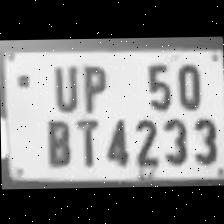0: (170, 58, 203, 108)
2: (128, 110, 160, 168)
3: (187, 110, 220, 167), (158, 110, 190, 166)
4: (100, 112, 130, 166)
5: (139, 57, 172, 109)
B: (40, 110, 72, 168)
P: (76, 58, 109, 110)
T: (70, 112, 100, 166)
U: (46, 58, 79, 111)
